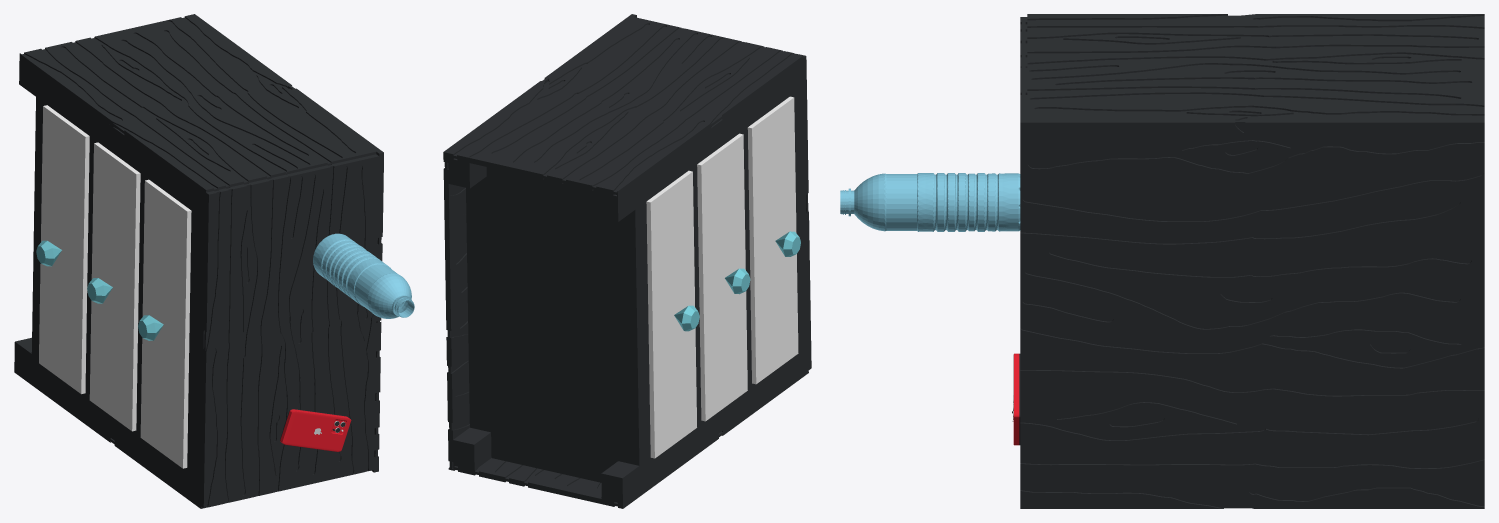
File: tinker.obj
3 renders of one model, left to right at view 1: azimuth 30°, elevation 25°; view 2: azimuth 150°, elevation 25°; view 3: azimuth 270°, elevation 25°, orthographic. The views are drawn at different scales.
Visible parts, largest first — view 1: group_0_2829873, group_0_16448250, group_0_8768998, group_0_15277357, group_0_7720667; view 2: group_0_2829873, group_0_16448250, group_0_7720667; view 3: group_0_2829873, group_0_8768998.
Part boxes in pixels (box(x1,y1,x2,y2)): group_0_2829873: box(14, 14, 383, 508); group_0_16448250: box(39, 105, 345, 468); group_0_8768998: box(313, 233, 414, 318); group_0_15277357: box(280, 409, 351, 451); group_0_7720667: box(36, 240, 163, 340); group_0_2829873: box(443, 14, 811, 508); group_0_16448250: box(646, 96, 798, 458); group_0_7720667: box(674, 231, 800, 331); group_0_2829873: box(1012, 14, 1484, 508); group_0_8768998: box(840, 173, 1020, 231).
Size of the model in its own units: 41.56 by 62.62 by 93.
